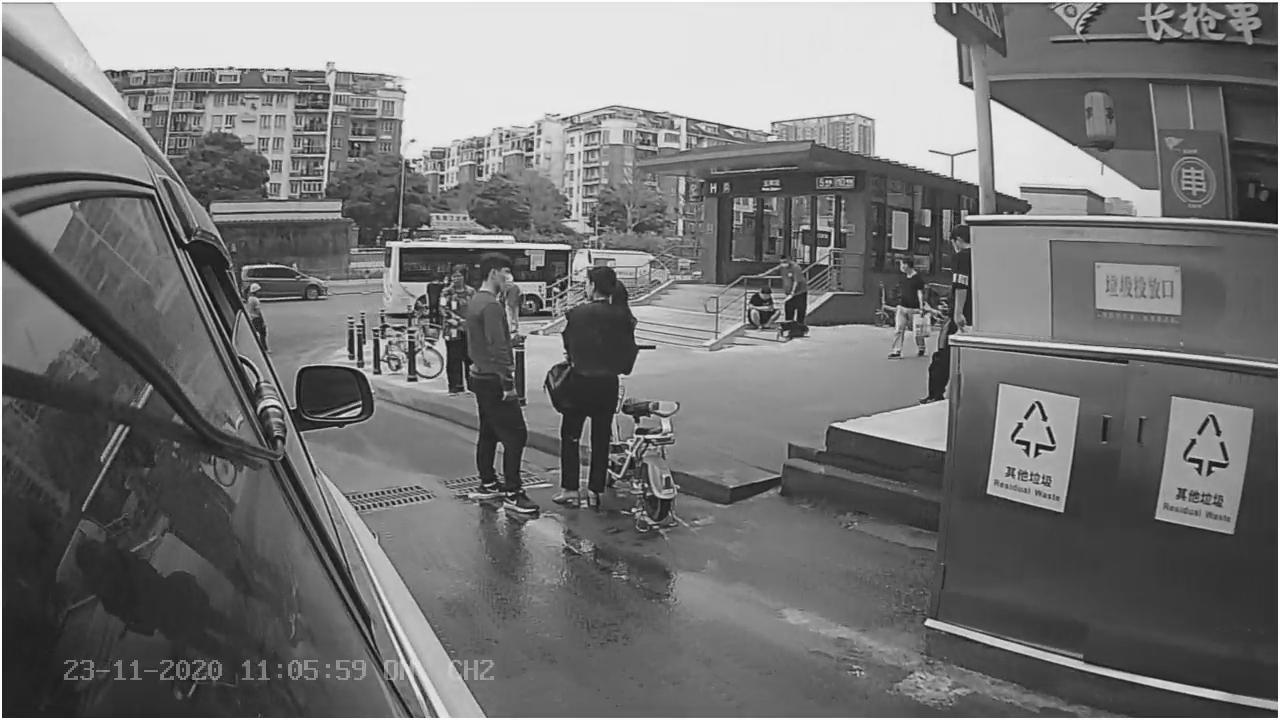person: (461, 251, 542, 528)
